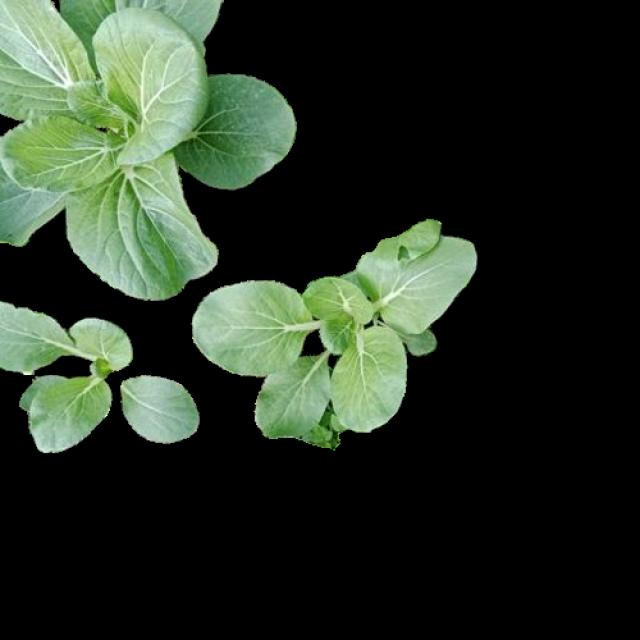healthy: (4, 5, 298, 300), (194, 228, 478, 449), (4, 304, 202, 456)
mature: (1, 3, 296, 297)
not-mature: (193, 225, 478, 447), (1, 302, 200, 453)
